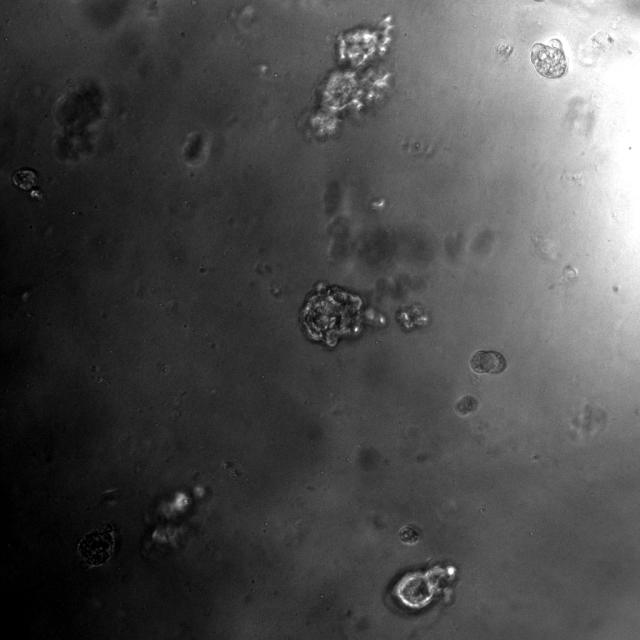organoid: (305, 16, 392, 140), (299, 281, 384, 348), (54, 78, 108, 164), (384, 562, 458, 616), (531, 39, 566, 78), (12, 167, 42, 200), (396, 303, 429, 331), (469, 350, 506, 374), (12, 167, 37, 191), (454, 395, 479, 417), (398, 523, 422, 545)
